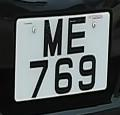6: (51, 57, 75, 95)
7: (25, 57, 52, 100)
9: (76, 53, 99, 92)
E: (64, 12, 89, 59)
M: (40, 17, 67, 58)
